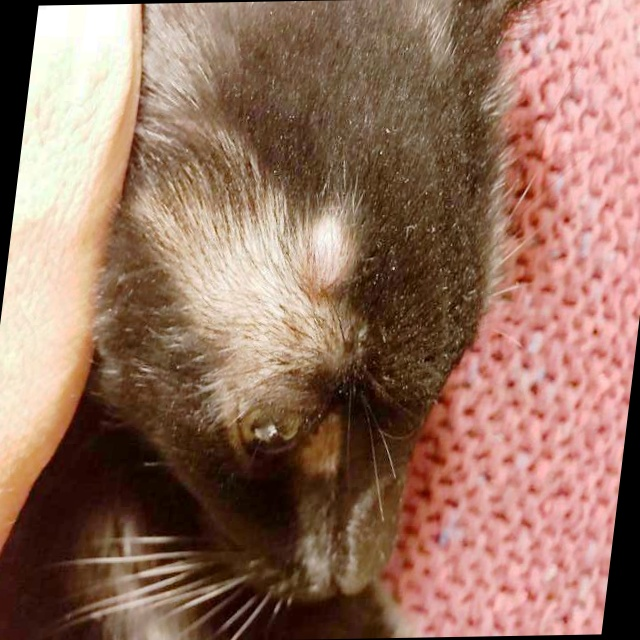lump_and_bump: (296, 218, 355, 282)
